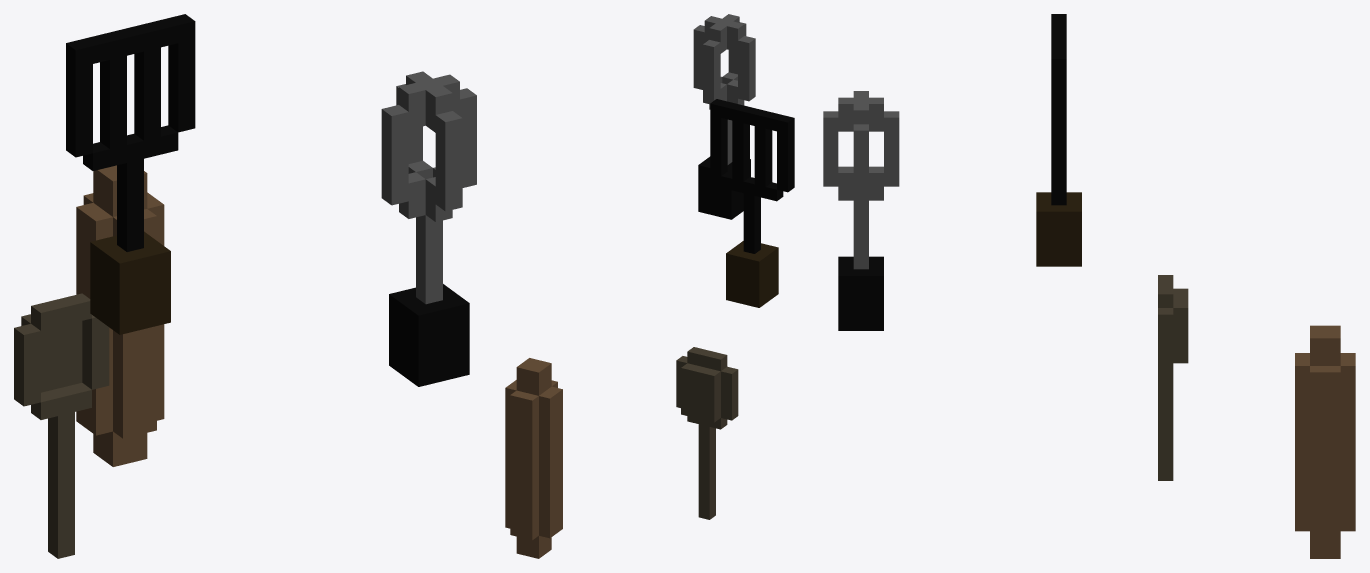
Rendered from Objetos jogaveis.obj.
The picture shows the model from 3 angles, left to right: view 1: azimuth 30°, elevation 25°; view 2: azimuth 150°, elevation 25°; view 3: azimuth 270°, elevation 25°; orthographic projection. The views are drawn at different scales.
Size of the model in its own units: 1.6 by 3.3 by 3.5.
1 material, 1 textured.
